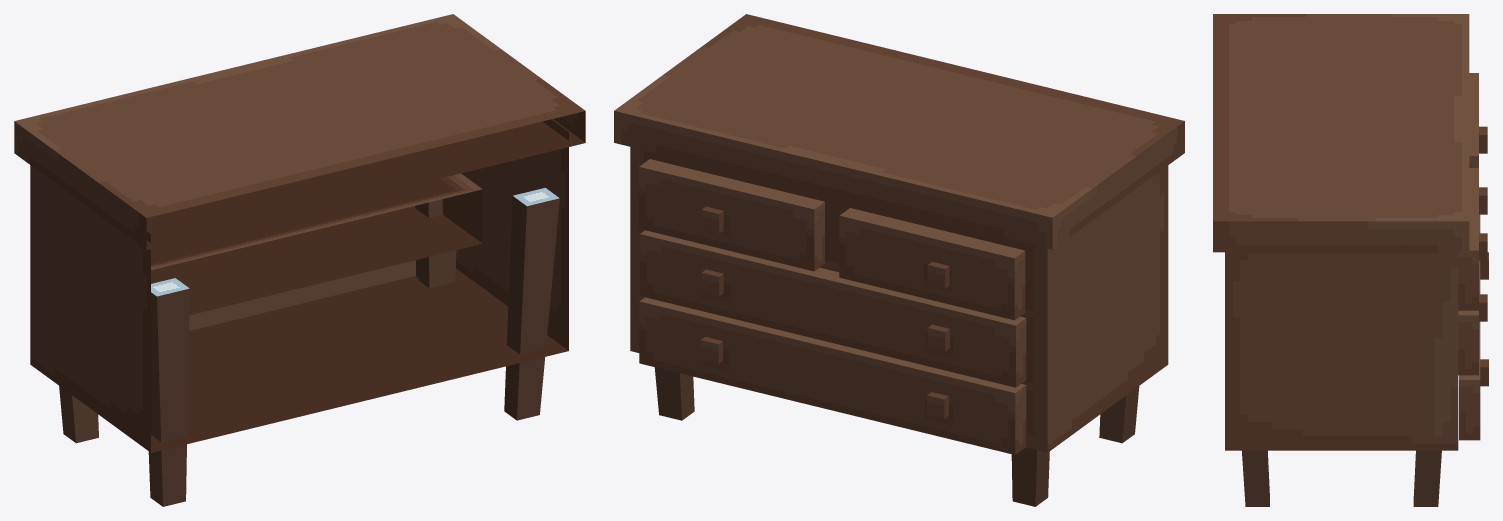
Rendered from dresser.gltf.
The picture shows the model from 3 angles, left to right: view 1: azimuth 30°, elevation 25°; view 2: azimuth 150°, elevation 25°; view 3: azimuth 270°, elevation 25°; orthographic projection. The views are drawn at different scales.
Visible parts, largest first — view 1: dresser; view 2: dresser; view 3: dresser.
Part boxes in pixels (left/top/right/bottom): dresser: left=14, top=14, right=585, bottom=506; dresser: left=614, top=14, right=1184, bottom=506; dresser: left=1213, top=14, right=1488, bottom=506.
Size of the model in its own units: 3.94 by 2.65 by 2.22.
Materials: 1 (1 with a texture image).
